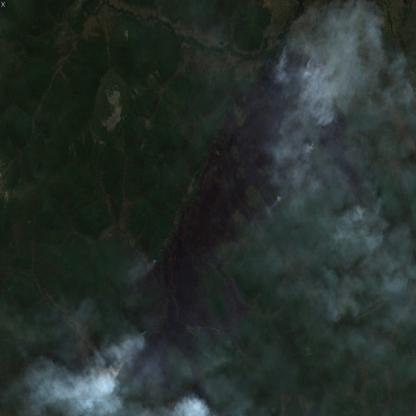fire: (272, 42, 336, 122), (102, 327, 154, 387), (183, 394, 207, 416), (352, 198, 372, 224)
